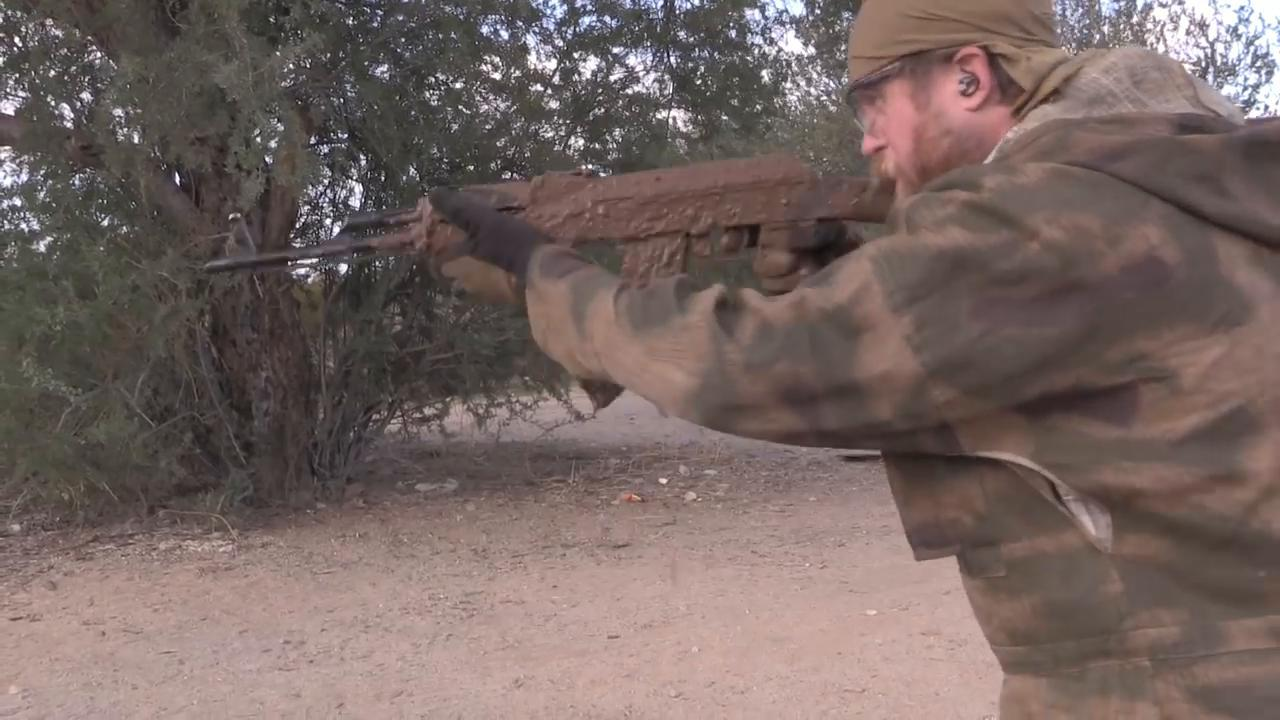AK47 Rifle: (199, 149, 895, 301)
